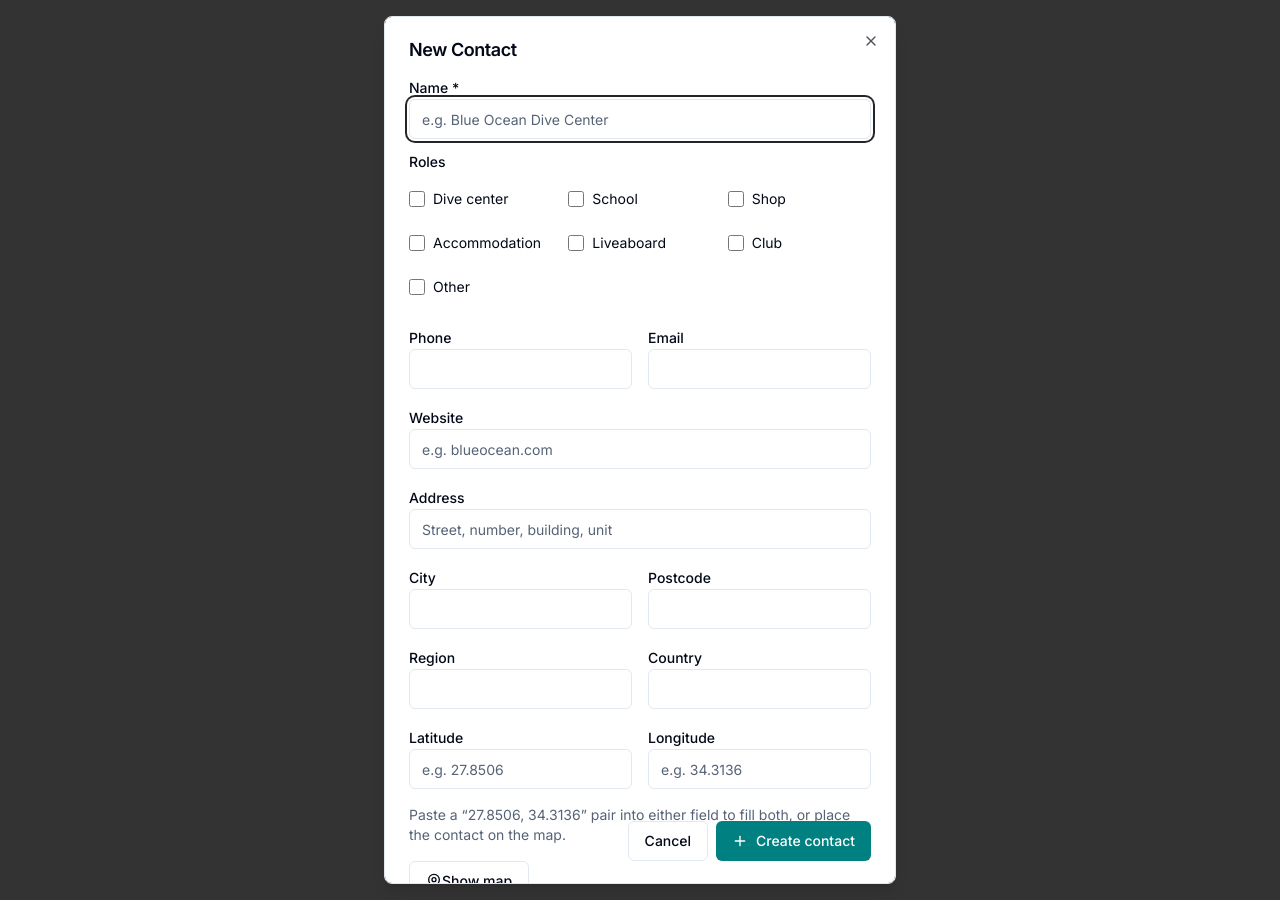
Test: ContactDialog › refuses an address without its country, and focuses the box
The width and height of the screenshot is (1280, 900).
Type "Grandma's house" into the field labelled "Name *".
click(640, 119); type("Grandma's house")  # box [409,99,871,139]
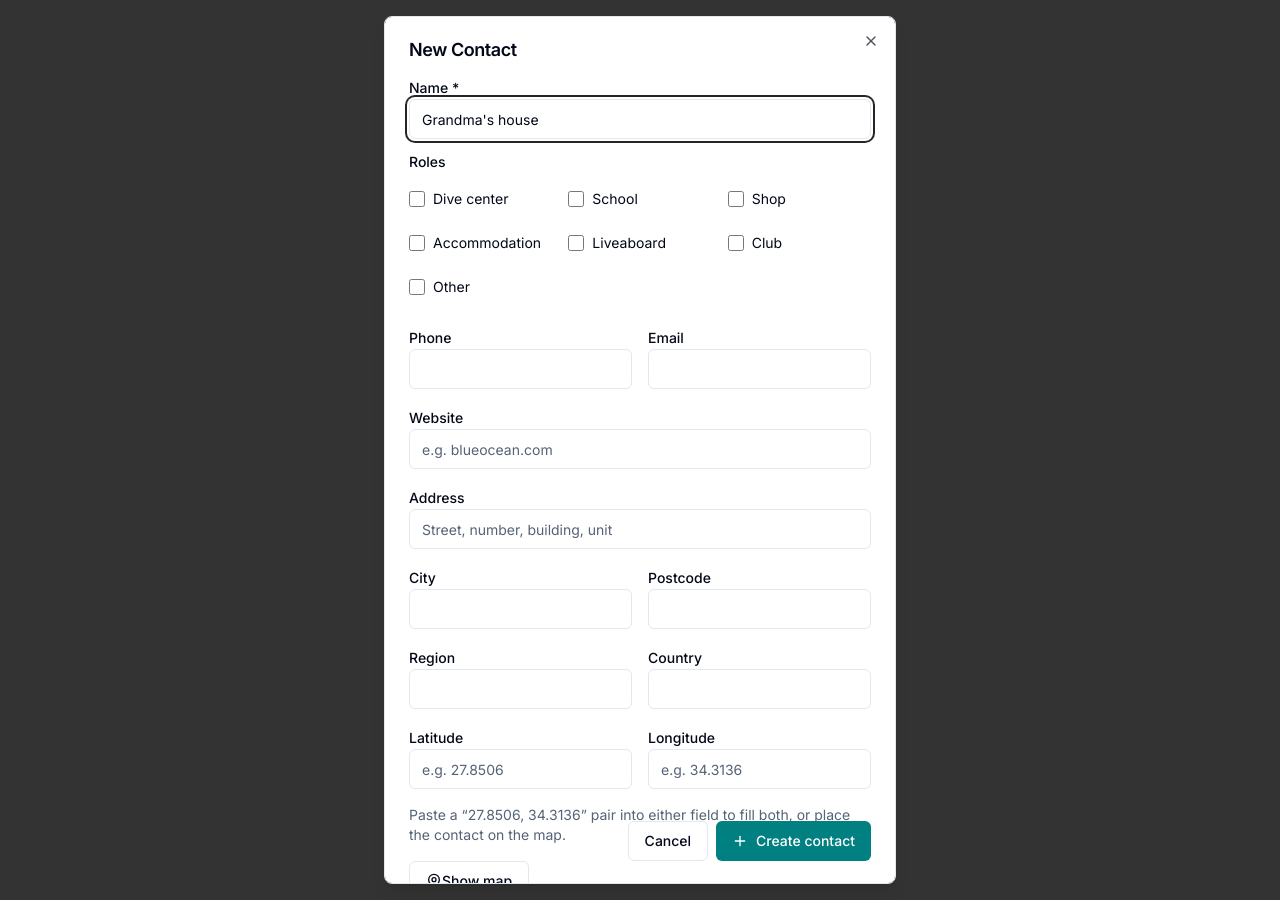
Type "12 Harbour Road" into the field labelled "Address".
click(640, 529); type("12 Harbour Road")  # box [409,509,871,549]
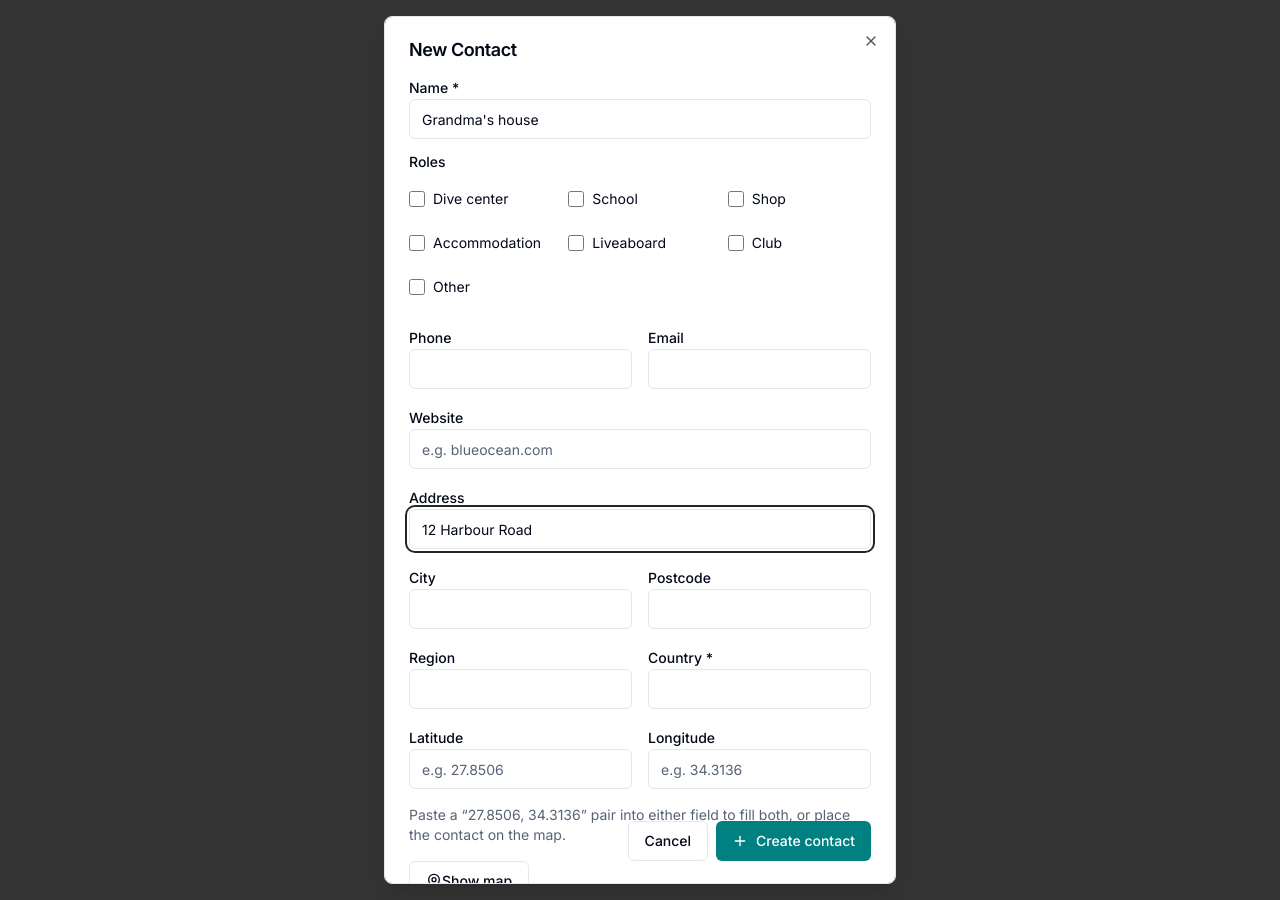
Click the button "Create contact".
click(794, 841)  # box [716,821,871,861]
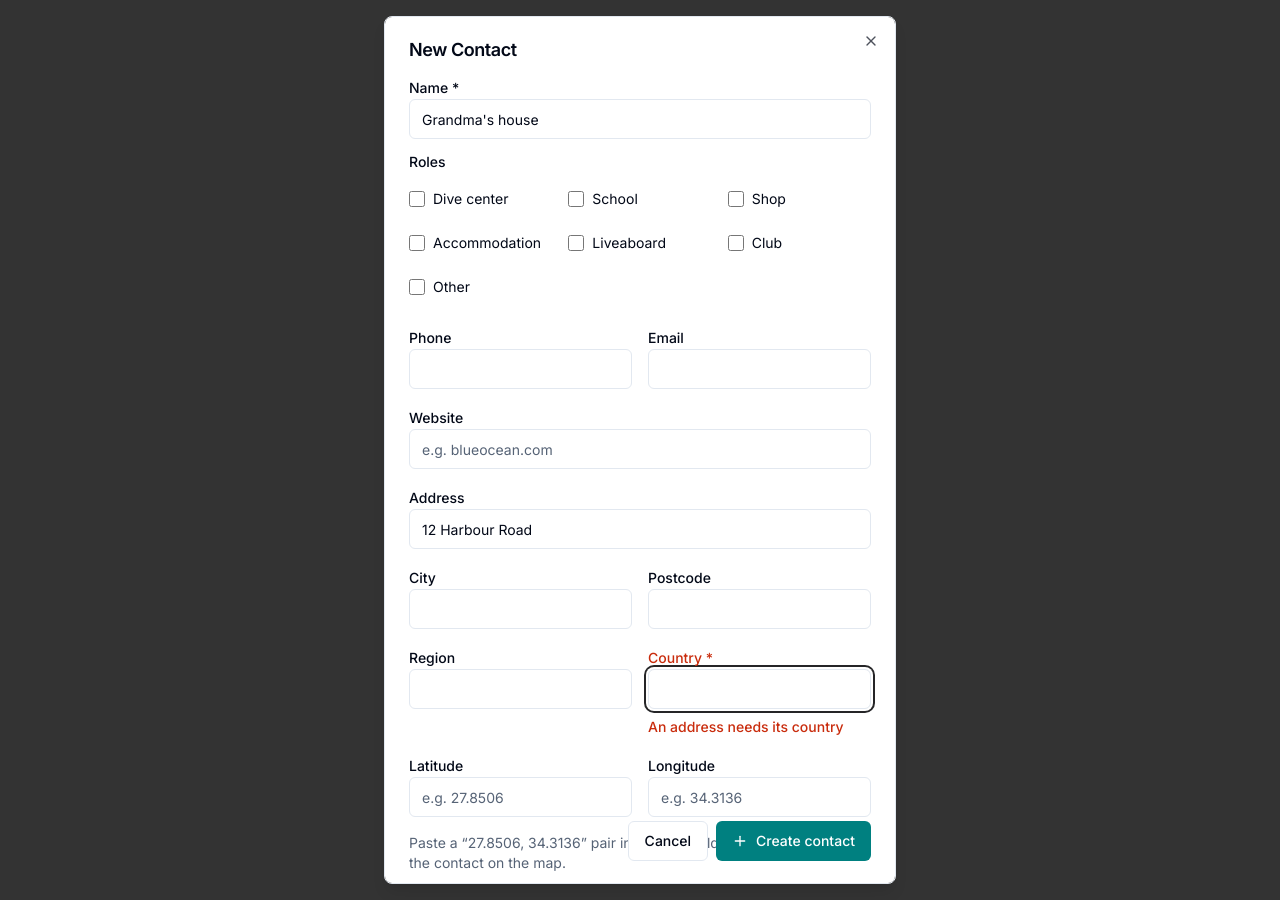
Now the text "An address needs its country" is shown, box [648,717,871,737]
